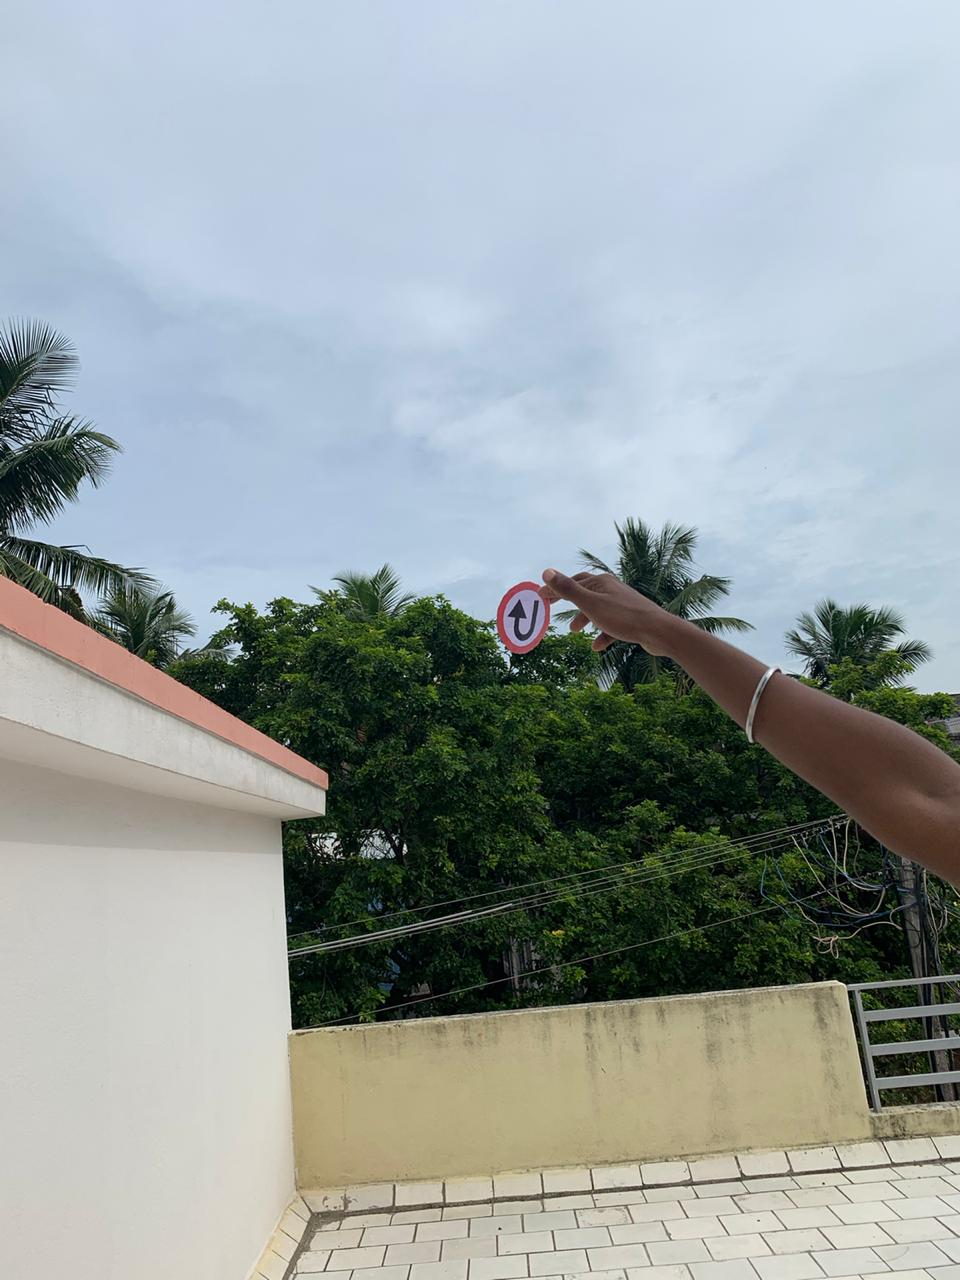U-TURN: (492, 577, 575, 656)
